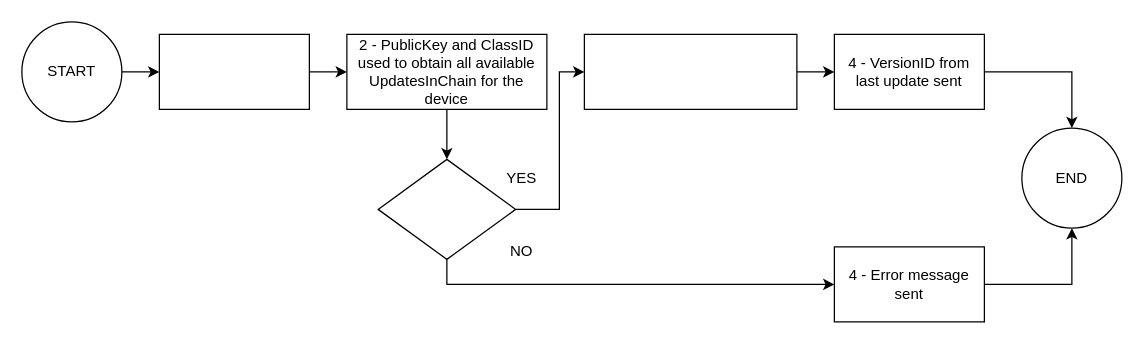
Image size: 1144x344. Some labels were removed from this diagram. The box of each missing label's shape, as (x1, y1, x2, y2) in pixels:
1 - Chaincode is called. Call contains a DeviceID: (158, 33, 309, 109)
3 - Last available update selected using VersionID and MonotonicSequenceNumber: (583, 33, 797, 109)
UpdateInChain Exists?: (377, 158, 516, 259)
